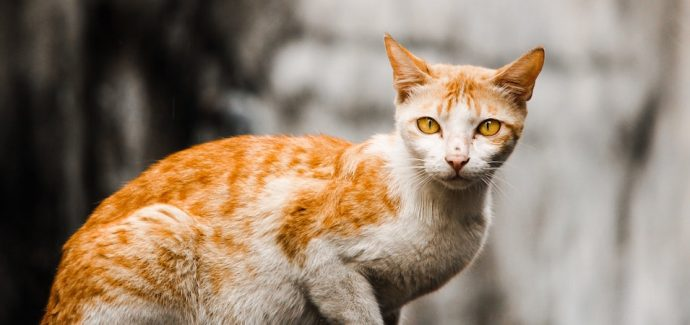Cat: (35, 29, 559, 325)
